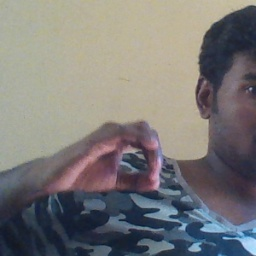O: (46, 108, 170, 199)
